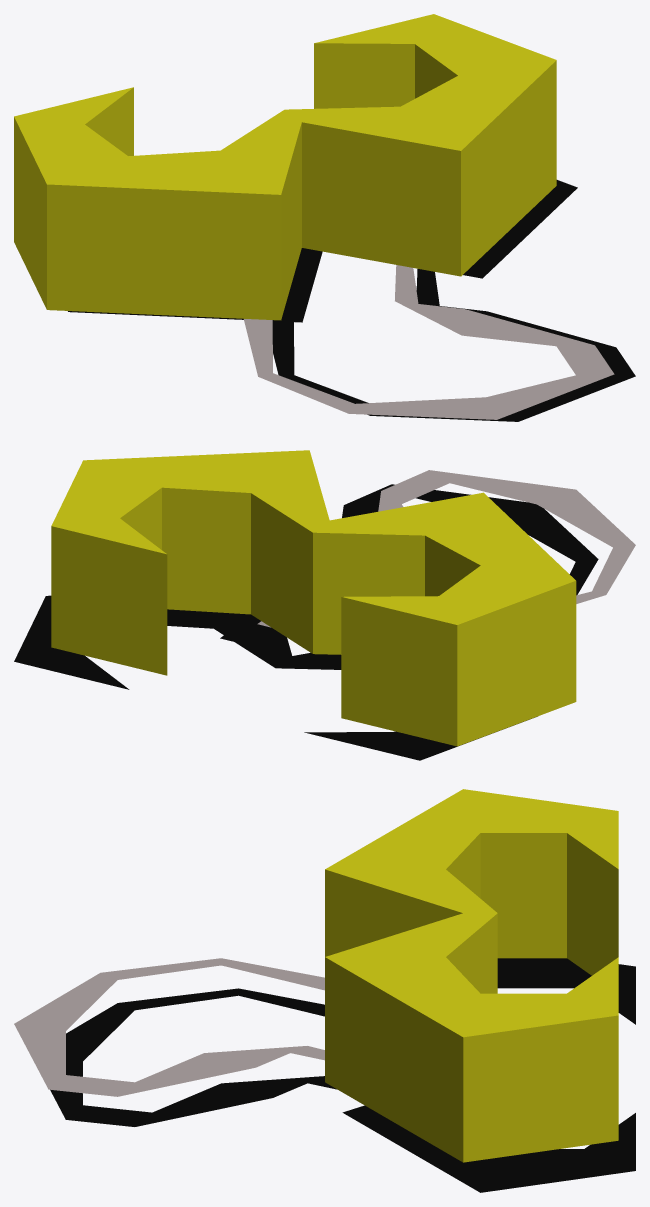
File: inv_unpowered_symbol.obj
The picture shows the model from 3 angles, top to bottom: view 1: azimuth 30°, elevation 25°; view 2: azimuth 150°, elevation 25°; view 3: azimuth 270°, elevation 25°; orthographic projection. The views are drawn at different scales.
Size of the model in its own units: 0.2812 by 0.0703 by 0.2812.
